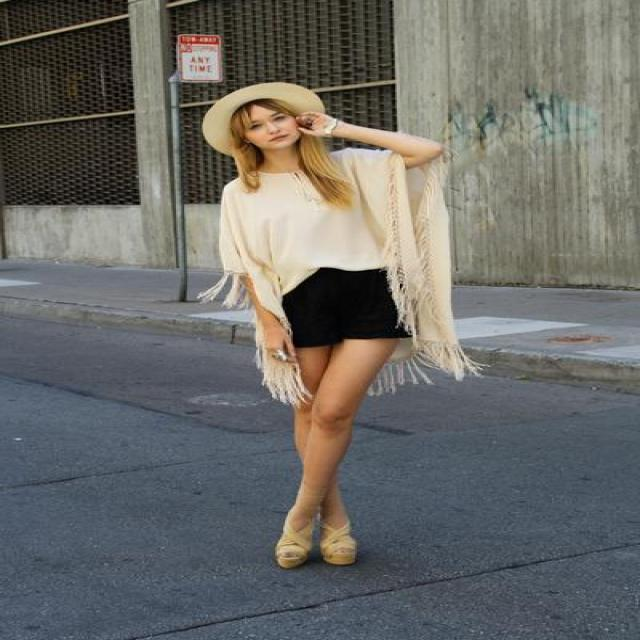hat: (193, 82, 324, 165)
jacket: (192, 148, 480, 404)
shoe: (275, 525, 355, 565)
skirt: (282, 268, 402, 344)
